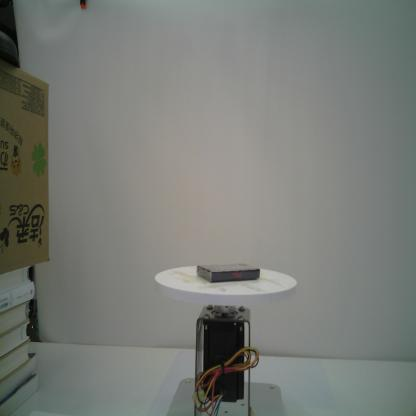Gum: (196, 262, 260, 283)
